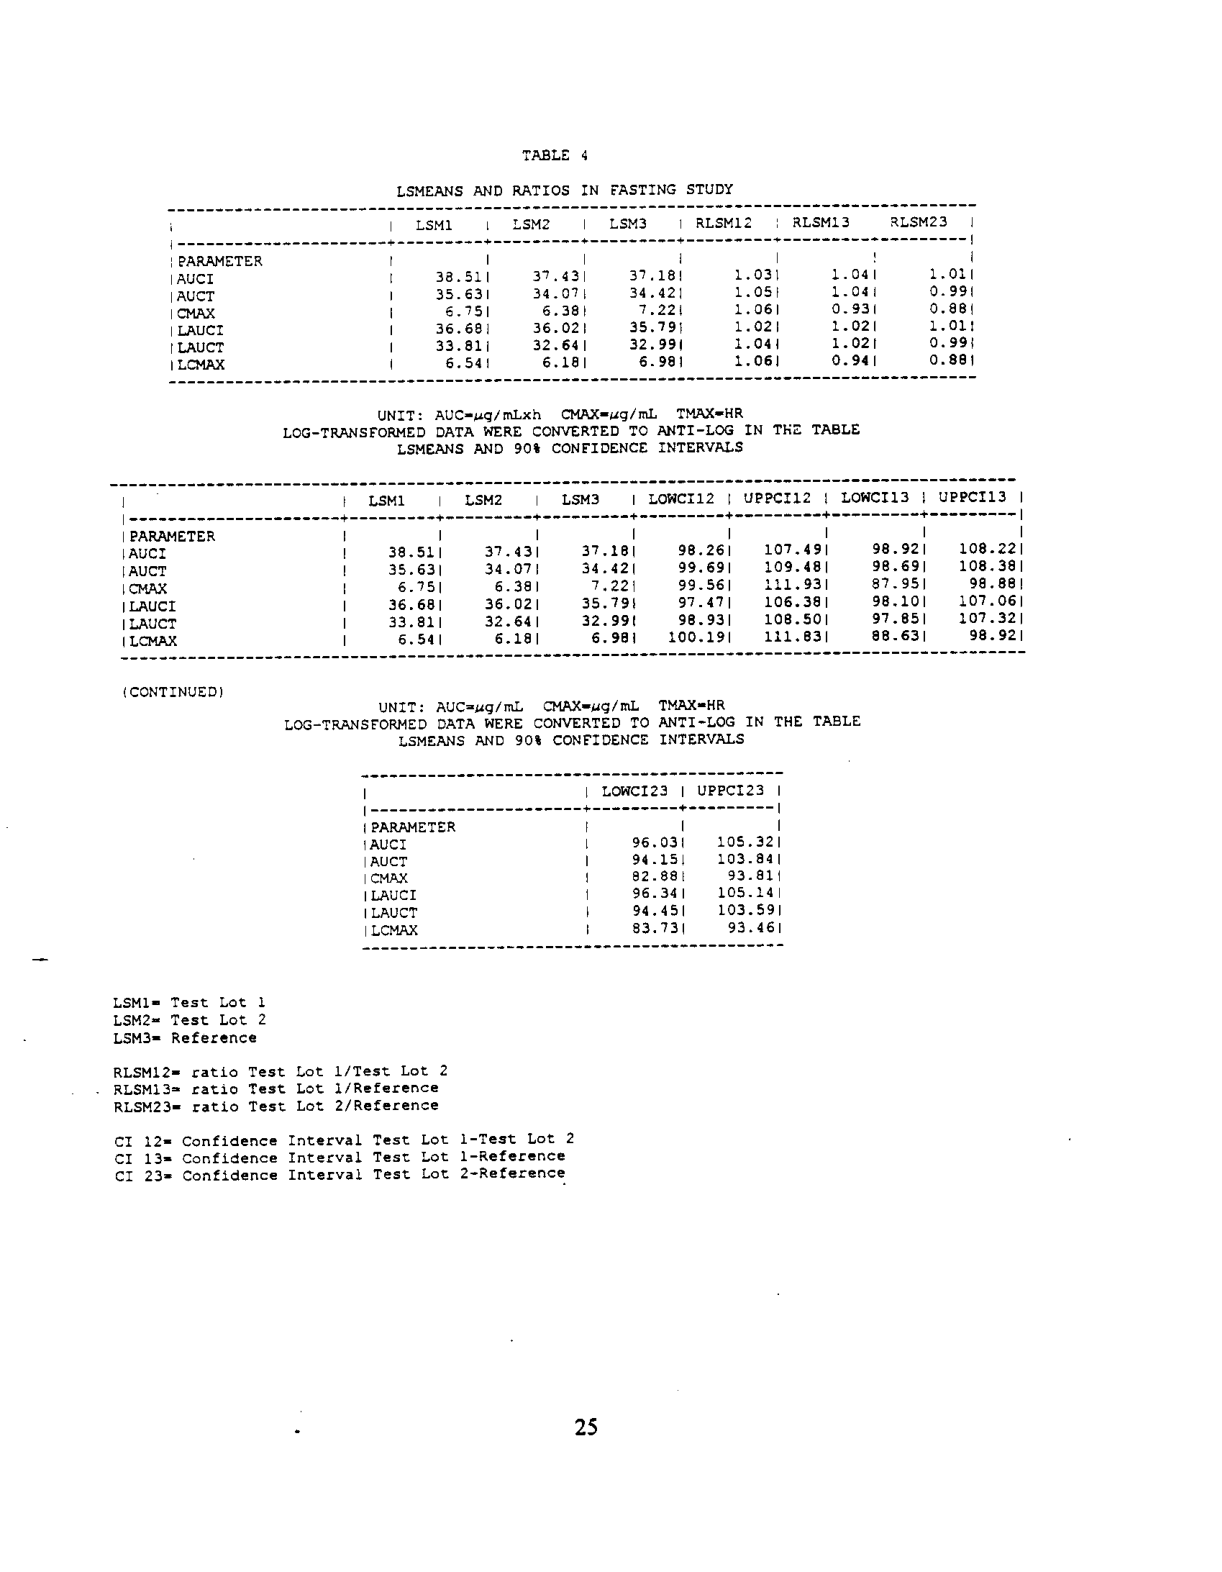partial_lined: (108, 477, 1027, 662), (165, 202, 978, 387), (358, 771, 786, 951)
